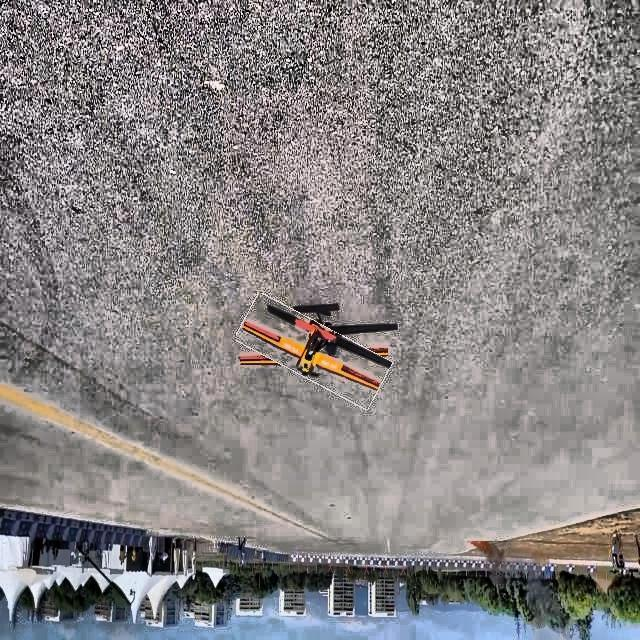iha: (233, 331, 399, 372)
